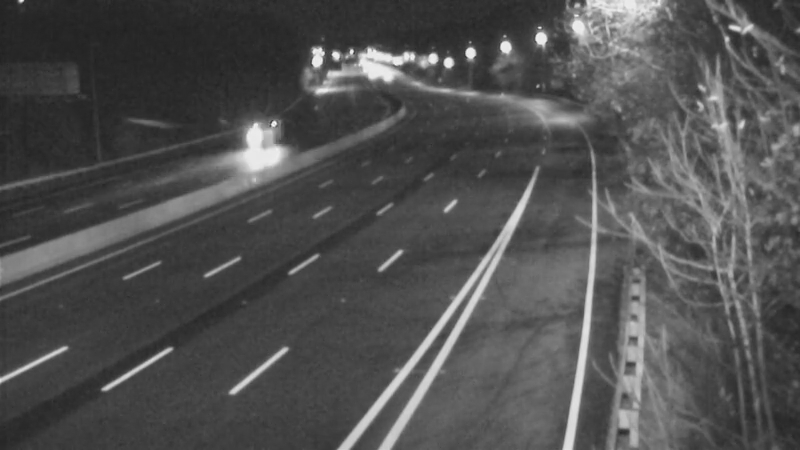vehicle: (225, 113, 275, 163)
